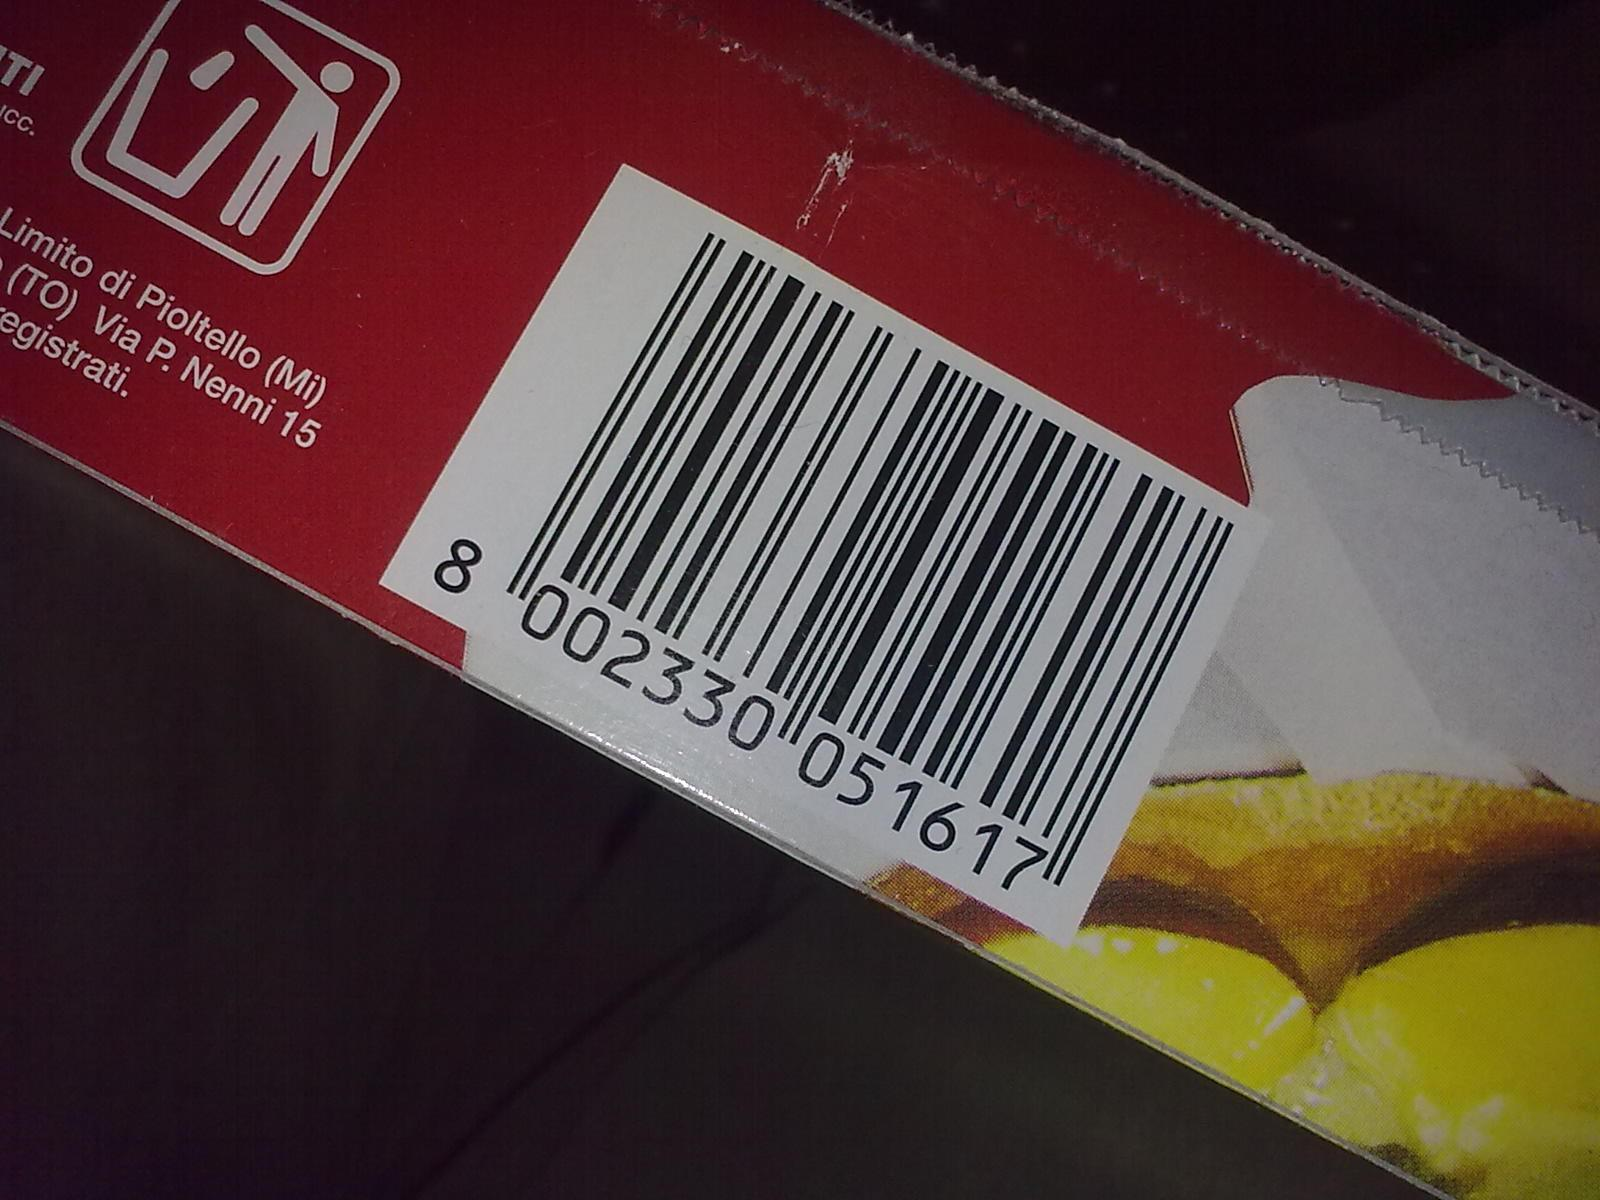Barcode: (417, 222, 1237, 914)
